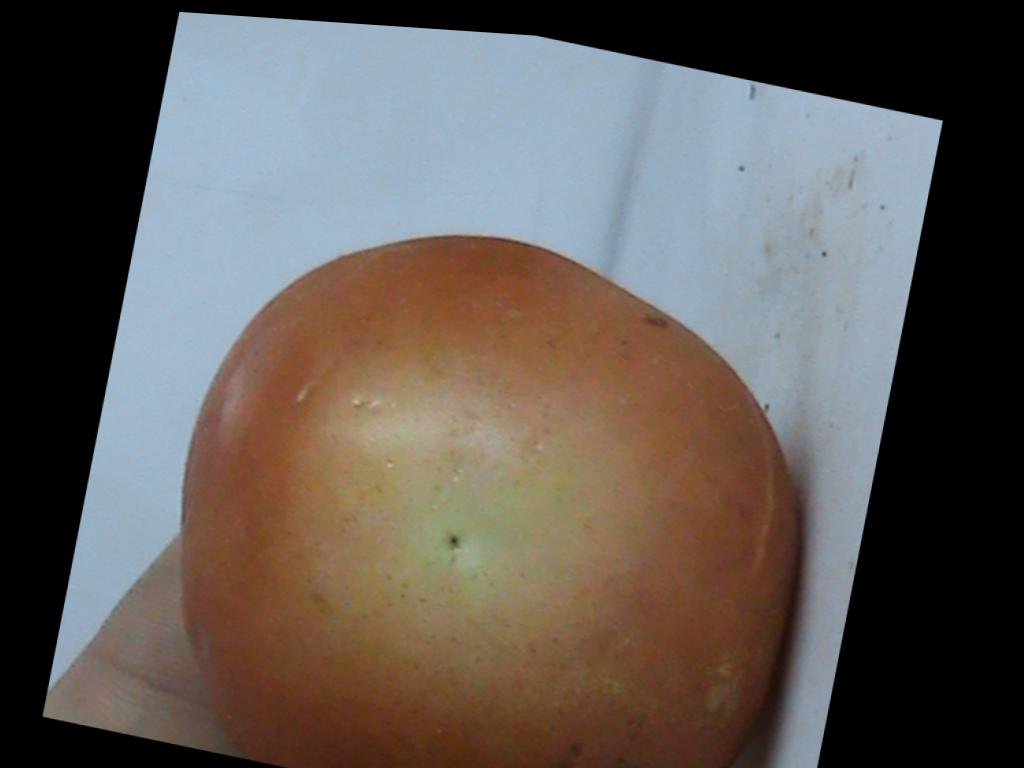bruise_discoloration: (293, 352, 606, 690), (553, 743, 581, 768)
surface_damage: (750, 399, 781, 577), (642, 315, 666, 329)
tomato: (182, 237, 794, 768)
